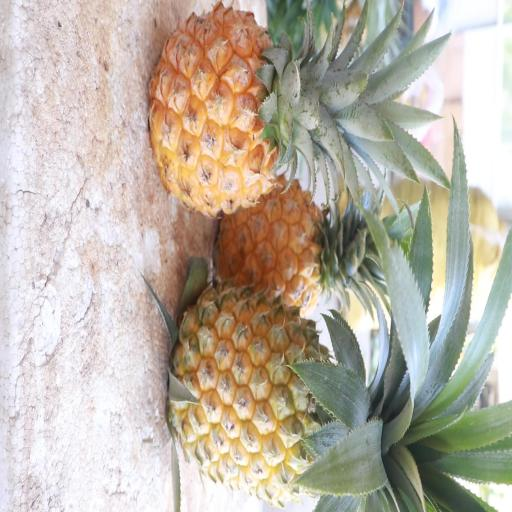Pineapple - v8 v1: (163, 278, 387, 511), (145, 0, 357, 220), (213, 182, 380, 321)
